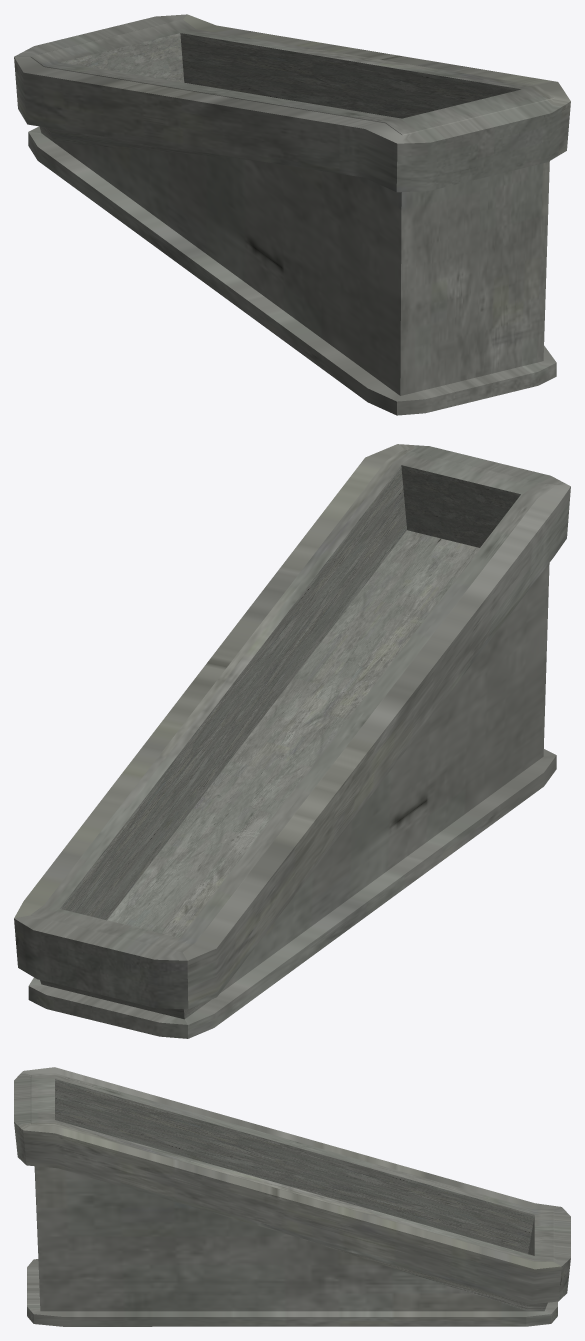
File: belt3.fbx
3 views of the same model, one above another, from view 1: azimuth 30°, elevation 25°; view 2: azimuth 150°, elevation 25°; view 3: azimuth 270°, elevation 25° (orthographic). The views are drawn at different scales.
Visible parts, largest first — view 1: polySurface4; view 2: polySurface4; view 3: polySurface4.
Boxes of the visible parts, box(x1,y1,x2,y2) form: polySurface4: box(14, 14, 570, 415); polySurface4: box(14, 444, 570, 1038); polySurface4: box(14, 1067, 570, 1326).
Bounding box in the file's own units: 1.35 × 1.87 × 4.8.
1 material, 1 textured.
